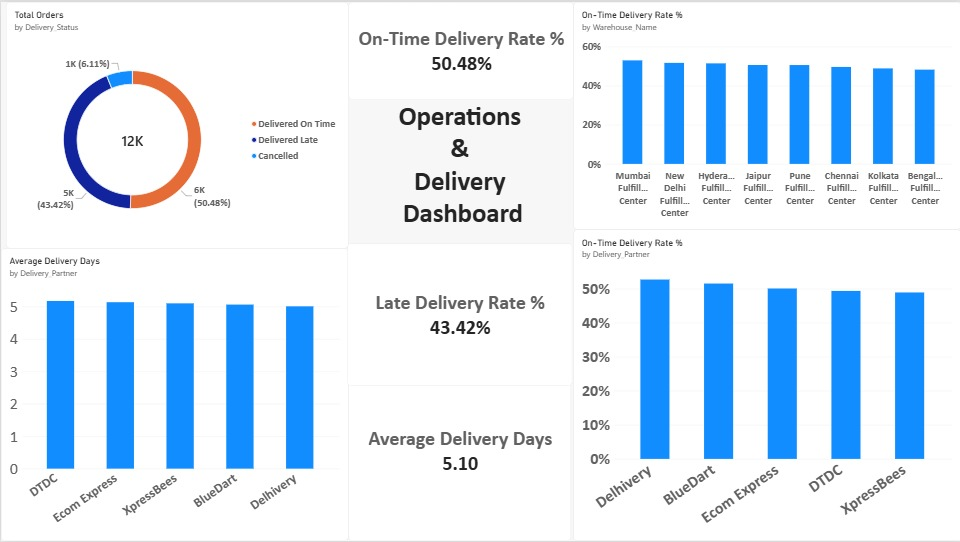

The page's visual inventory and layout, read from the dashboard file:
{"tool":"powerbi","page":{"name":"Operations&Delivery","canvas":[1920,1080],"ordinal":2},"visuals":[{"type":"donutChart","fields":{"Category":["Delivery.Delivery_Status"],"Y":["Orders.Total Orders"]},"box":[10,0,685,492.5],"z":0},{"type":"cardVisual","fields":{"Data":["Delivery.Average Delivery Days"]},"box":[695,717.5,445,360],"z":1},{"type":"cardVisual","fields":{"Data":["Customers.On-Time Delivery Rate %"]},"box":[695,0,450,195],"z":2},{"type":"clusteredColumnChart","fields":{"Category":["Delivery.Delivery_Partner"],"Y":["Customers.On-Time Delivery Rate %"]},"box":[1145,455,775,625],"z":3},{"type":"clusteredColumnChart","fields":{"Category":["Warehouses.Warehouse_Name"],"Y":["Customers.On-Time Delivery Rate %"]},"box":[1145,0,775,455],"z":4},{"type":"clusteredColumnChart","fields":{"Category":["Delivery.Delivery_Partner"],"Y":["Delivery.Average Delivery Days"]},"box":[0,492.5,695,585],"z":5},{"type":"cardVisual","fields":{"Data":["Customers.Late Delivery Rate %"]},"box":[692.5,482.5,450,285],"z":6},{"type":"textbox","box":[695,195,445,297.5],"z":7}]}

Visuals, with their boxes in screenshot pixels (x1, y1, x2, y2), scaled from the page's 1920x1080 canvas onto the 960x542 screenshot:
donutChart - Delivery.Delivery_Status x Orders.Total Orders: 5/0/348/247
cardVisual - Delivery.Average Delivery Days: 348/360/570/541
cardVisual - Customers.On-Time Delivery Rate %: 348/0/572/98
clusteredColumnChart - Delivery.Delivery_Partner x Customers.On-Time Delivery Rate %: 572/228/959/541
clusteredColumnChart - Warehouses.Warehouse_Name x Customers.On-Time Delivery Rate %: 572/0/959/228
clusteredColumnChart - Delivery.Delivery_Partner x Delivery.Average Delivery Days: 0/247/348/541
cardVisual - Customers.Late Delivery Rate %: 346/242/571/385
textbox: 348/98/570/247
